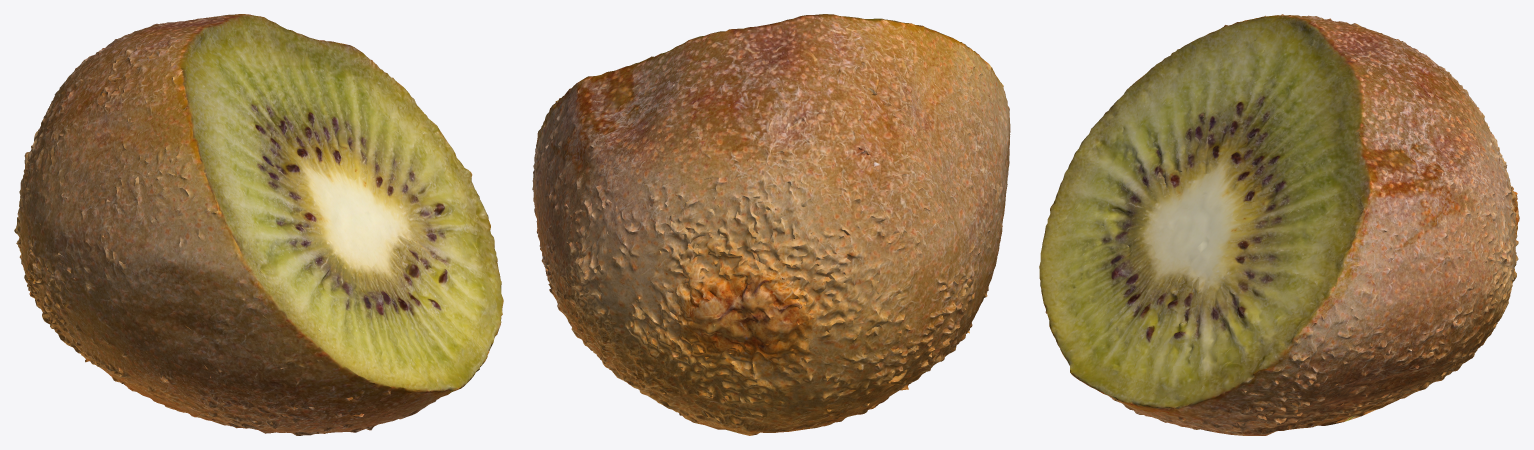
File: kiwi.glb
3 renders of one model, left to right at view 1: azimuth 30°, elevation 25°; view 2: azimuth 150°, elevation 25°; view 3: azimuth 270°, elevation 25°, orthographic. The views are drawn at different scales.
Parts seen in each view (by area): view 1: model; view 2: model; view 3: model.
Boxes of the visible parts, left/top/right/bottom form: model: left=14, top=14, right=503, bottom=435; model: left=532, top=14, right=1010, bottom=435; model: left=1039, top=14, right=1519, bottom=435.
Size of the model in its own units: 0.1174 by 0.0985 by 0.1235.
1 material, 1 textured.
